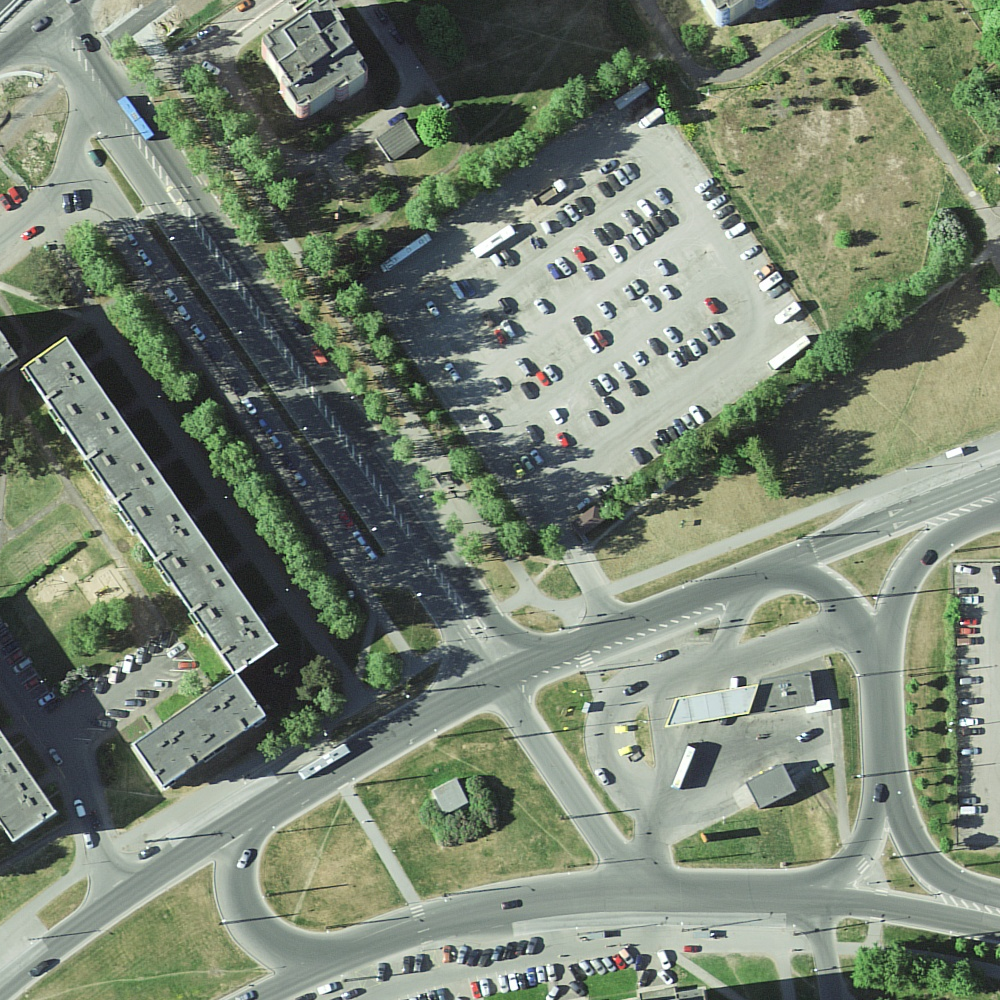building: (22, 337, 280, 676), (133, 673, 267, 787), (263, 9, 369, 109), (1, 732, 60, 841), (665, 684, 761, 725), (753, 674, 817, 713), (746, 764, 797, 809), (377, 120, 422, 162), (433, 777, 470, 814), (708, 1, 750, 12)
